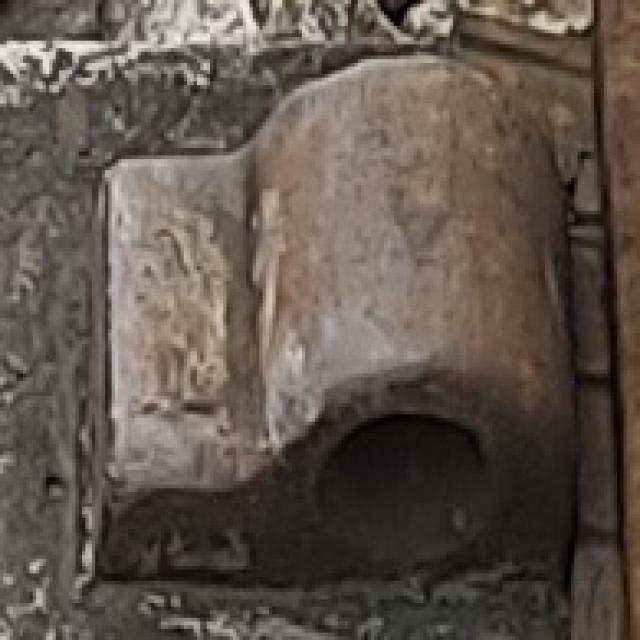track_bolt_missing: (241, 40, 581, 566)
